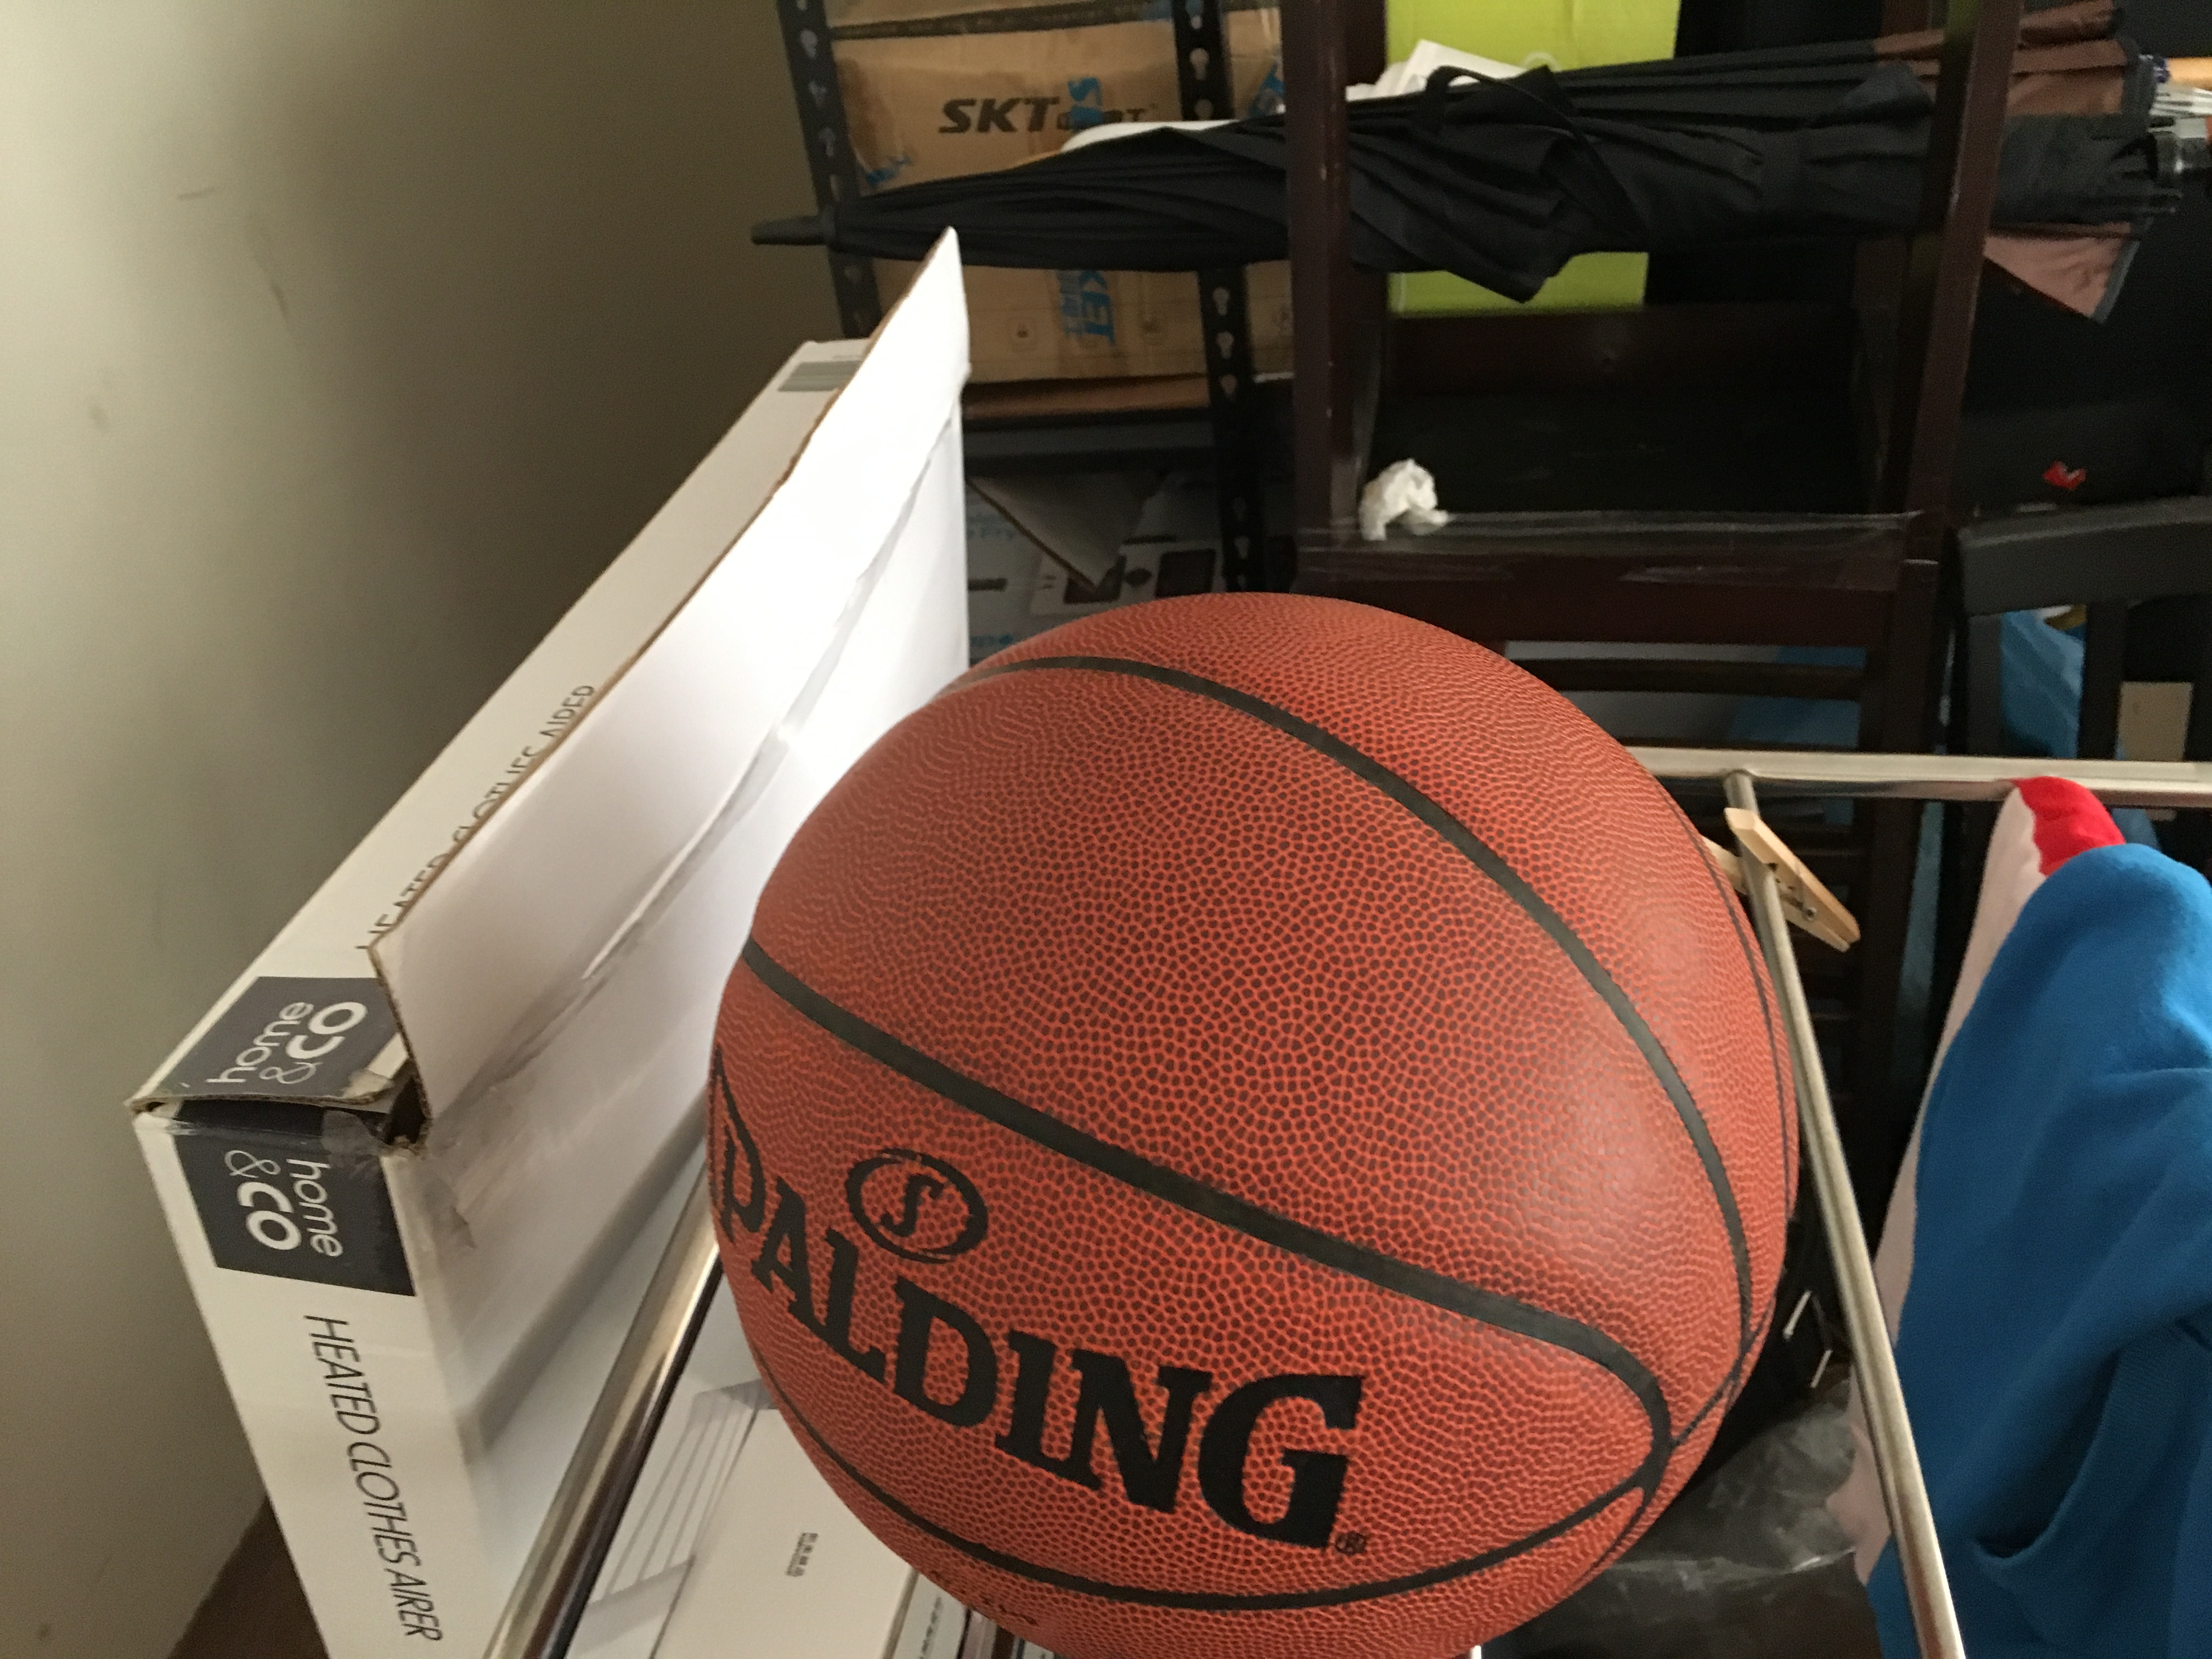Basketball: (688, 584, 1810, 1659)
